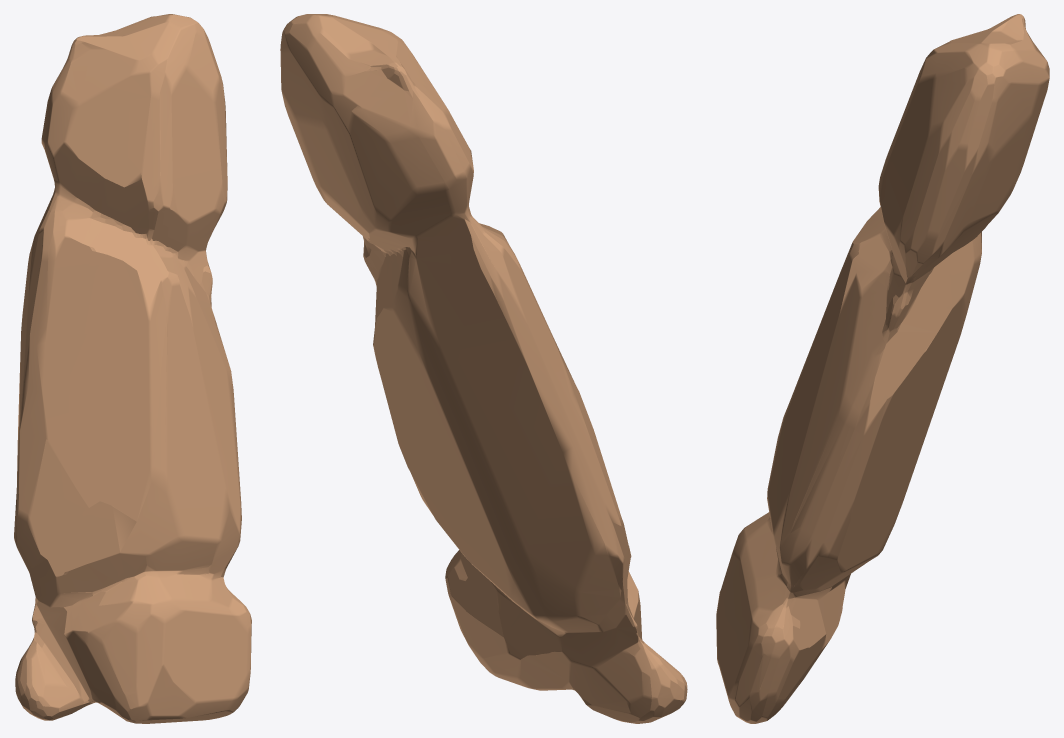
The picture shows the model from 3 angles, left to right: view 1: azimuth 30°, elevation 25°; view 2: azimuth 150°, elevation 25°; view 3: azimuth 270°, elevation 25°; orthographic projection. The views are drawn at different scales.
Visible parts, largest first — view 1: Mesh_95_LOD0; view 2: Mesh_95_LOD0; view 3: Mesh_95_LOD0.
Part boxes in pixels (bbox=[...]): Mesh_95_LOD0: bbox=[14, 14, 251, 723]; Mesh_95_LOD0: bbox=[280, 14, 687, 723]; Mesh_95_LOD0: bbox=[716, 14, 1049, 723].
Size of what is drawn, in the model's own units: 918 by 2021 by 863.
